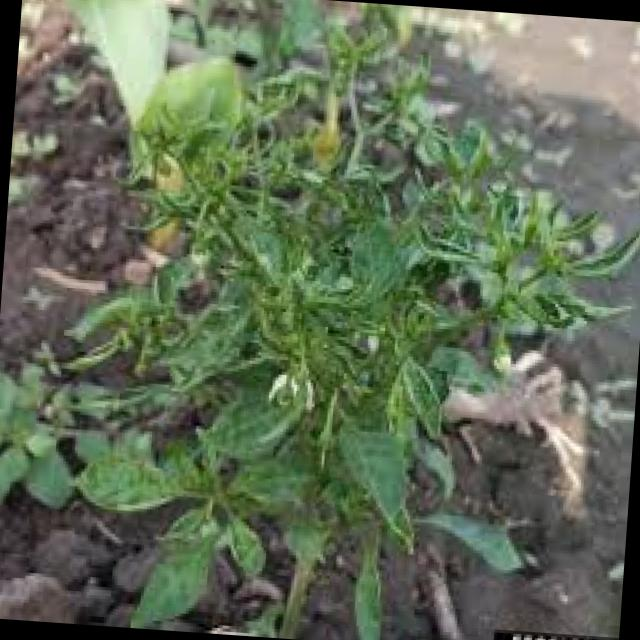Chilli_Leaf_Curl: (0, 0, 640, 640), (432, 341, 598, 518), (326, 420, 422, 551)
